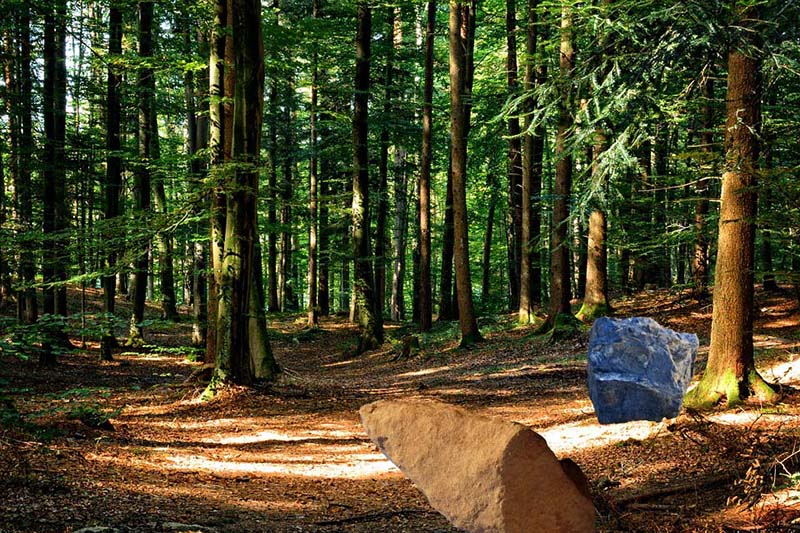Rocks: (347, 391, 597, 533), (574, 307, 705, 428)
